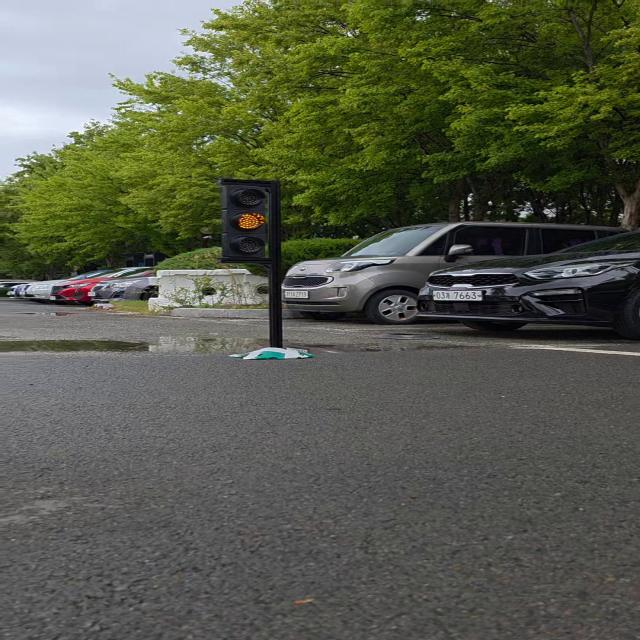yellow: (215, 178, 286, 269)
